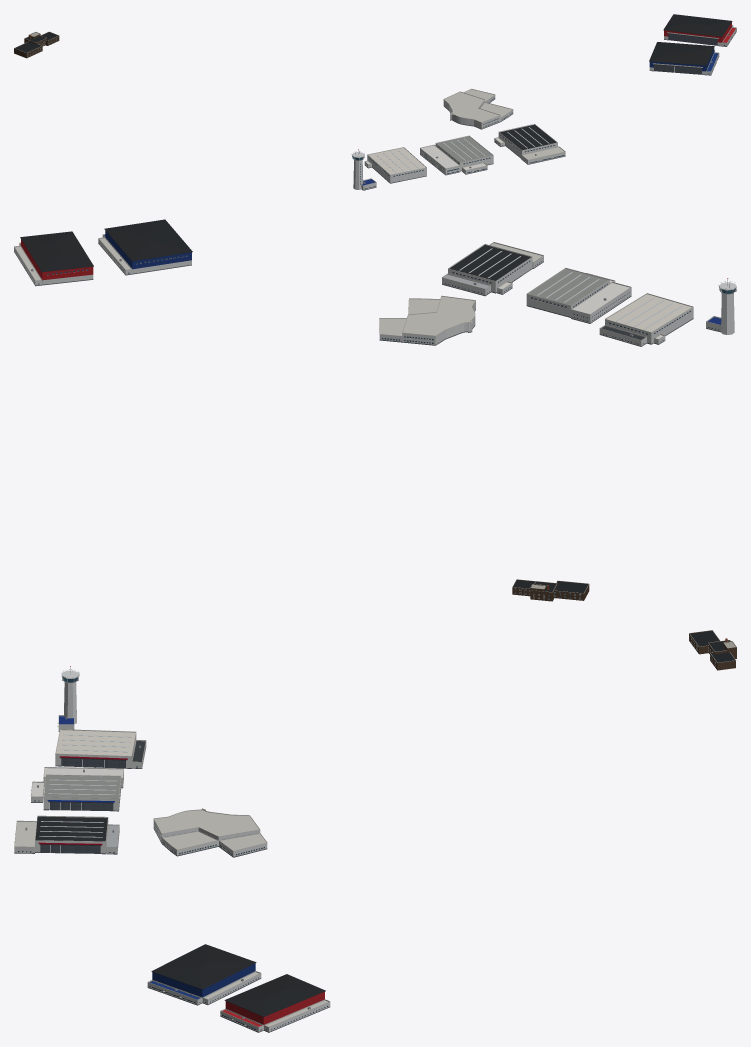
File: showpieces.glb
3 renders of one model, top to bottom at view 1: azimuth 30°, elevation 25°; view 2: azimuth 150°, elevation 25°; view 3: azimuth 270°, elevation 25°, orthographic. The views are drawn at different scales.
Visible parts, largest first — view 1: hangar-2, hangar-5, main-building, hangar-6, hangar-3, hangar-1, mess, control-tower; view 2: hangar-2, hangar-5, main-building, hangar-3, hangar-6, hangar-1, mess, control-tower; view 3: hangar-5, main-building, hangar-6, hangar-3, hangar-2, hangar-1, mess, control-tower.
Boxes of the visible parts, bbox=[...] form: hangar-2: bbox=[420, 135, 493, 175]; hangar-5: bbox=[649, 42, 719, 75]; main-building: bbox=[443, 88, 513, 129]; hangar-6: bbox=[663, 14, 736, 46]; hangar-3: bbox=[494, 124, 565, 164]; hangar-1: bbox=[364, 147, 426, 183]; mess: bbox=[14, 31, 59, 58]; control-tower: bbox=[351, 149, 376, 190]; hangar-2: bbox=[526, 267, 631, 323]; hangar-5: bbox=[98, 219, 192, 275]; main-building: bbox=[379, 295, 475, 345]; hangar-3: bbox=[442, 242, 543, 296]; hangar-6: bbox=[14, 231, 93, 286]; hangar-1: bbox=[599, 293, 693, 346]; mess: bbox=[512, 579, 589, 601]; control-tower: bbox=[706, 278, 736, 334]; hangar-5: bbox=[147, 944, 261, 1005]; main-building: bbox=[153, 808, 267, 857]; hangar-6: bbox=[220, 974, 330, 1032]; hangar-3: bbox=[14, 815, 119, 854]; hangar-2: bbox=[30, 767, 123, 811]; hangar-1: bbox=[55, 729, 146, 768]; mess: bbox=[689, 630, 736, 670]; control-tower: bbox=[57, 666, 79, 731].
Size of the model in its own units: 2857 by 188 by 2209.
